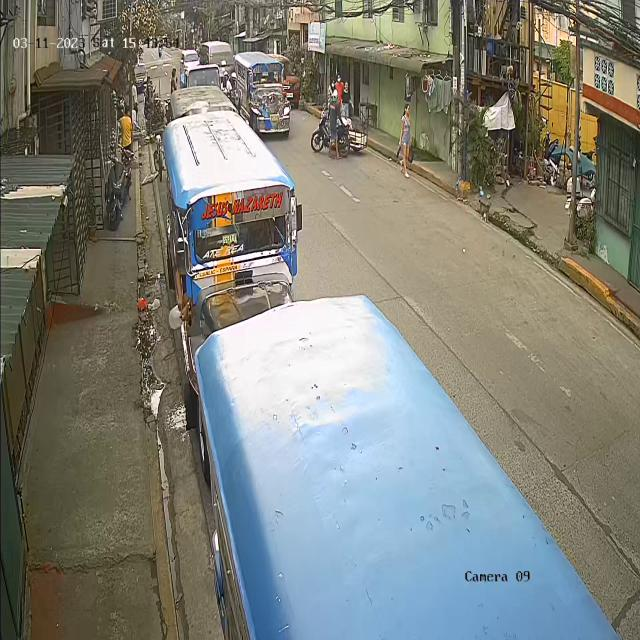garbage_dumping: (408, 144, 414, 163), (396, 145, 401, 159)
